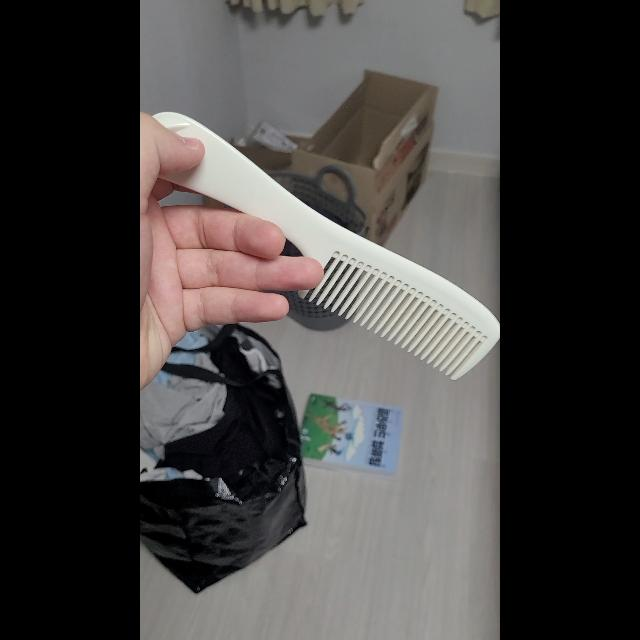COMB: (150, 112, 500, 380)
